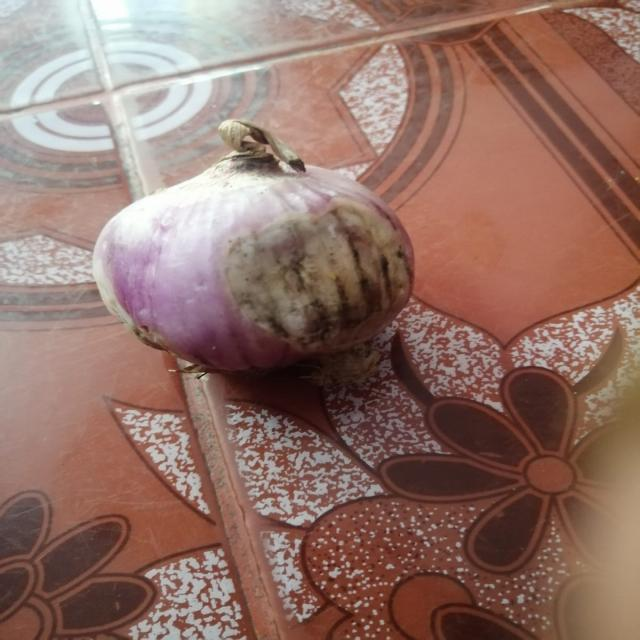rotten: (219, 232, 393, 337)
